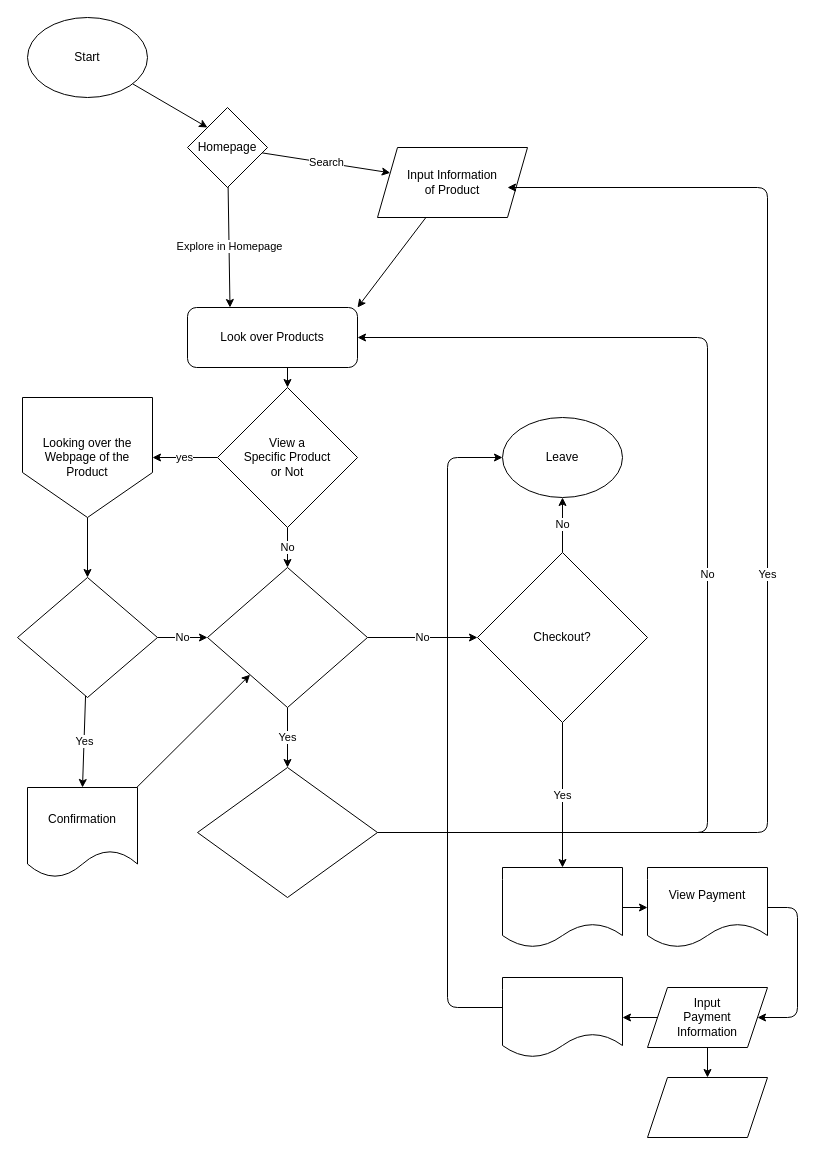
The diagram is 823 pixels wide and 1155 high, and some of its shapes have lost their labels. The shapes that lost their labels are listed below. From the top down, each one's centre as x and y in pixels, then its label:
At (x=87, y=637): "Add to Cart?".
At (x=287, y=637): "Continue Shopping?".
At (x=287, y=832): "Searching for a New Product?".
At (x=562, y=907): "View Cart".
At (x=562, y=1017): "Order Confirmation".
At (x=707, y=1107): "Email Order Confirmation".
